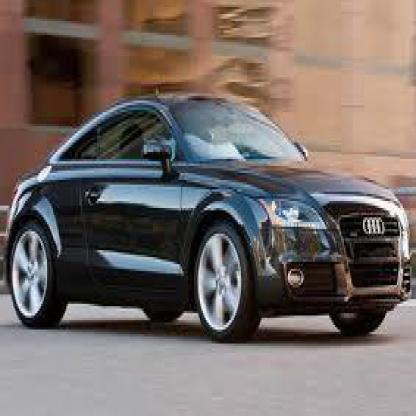Vehicle: (4, 91, 413, 348)
